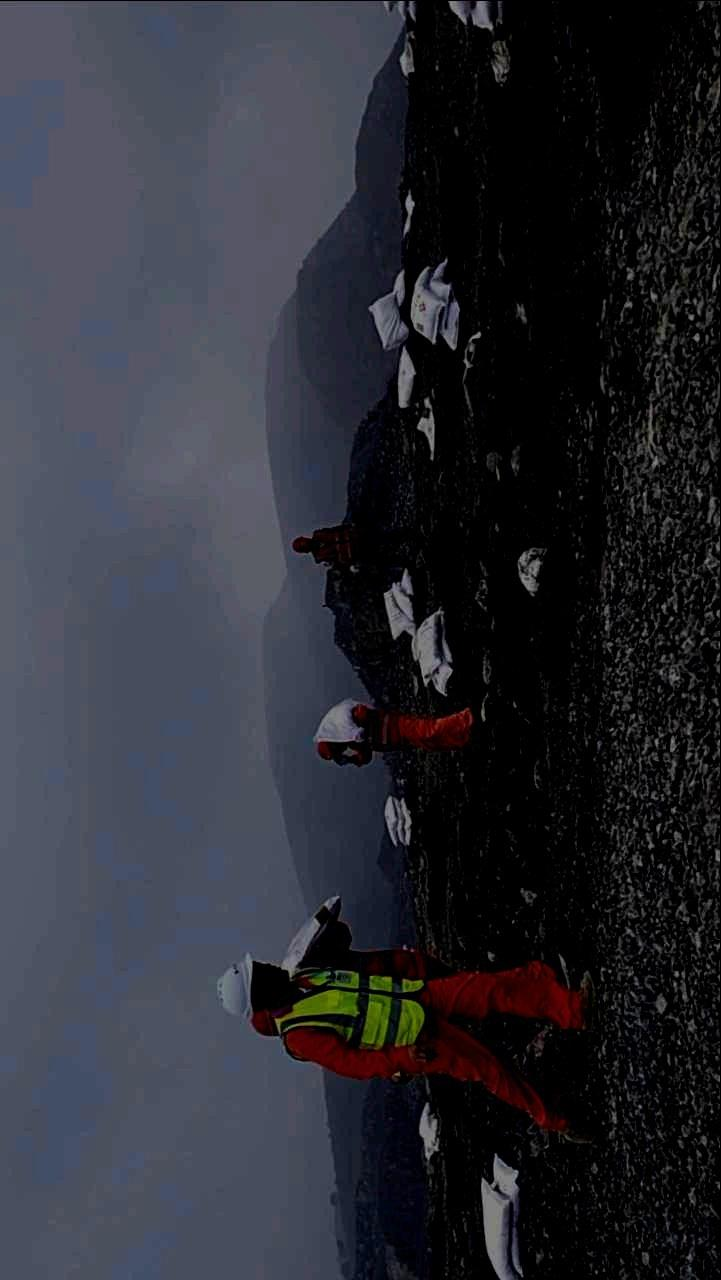helmet: (217, 951, 290, 1023), (318, 742, 346, 761), (292, 536, 312, 555)
